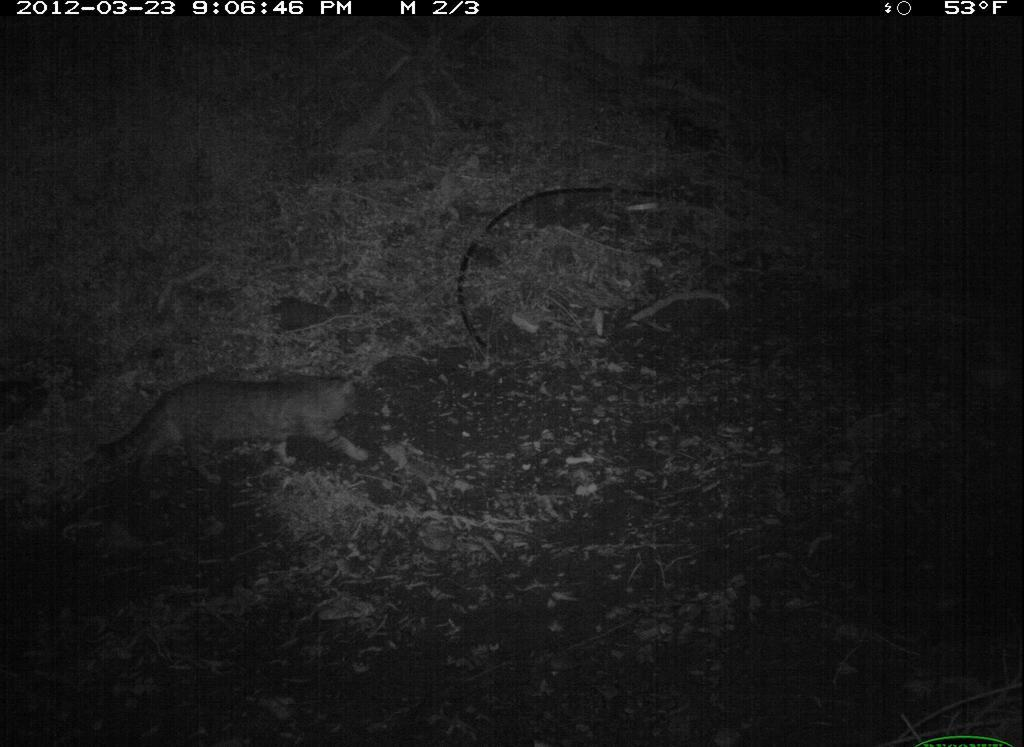cat: (80, 363, 386, 502)
